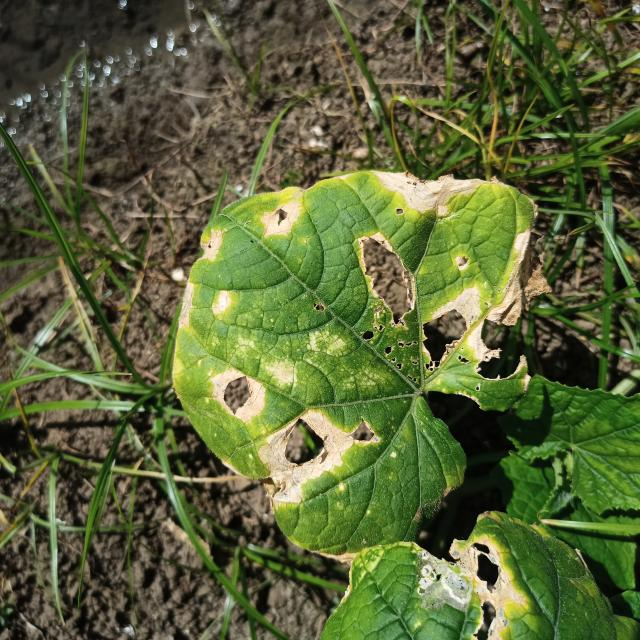disease_cucumber: (178, 174, 541, 509), (442, 533, 525, 640)
